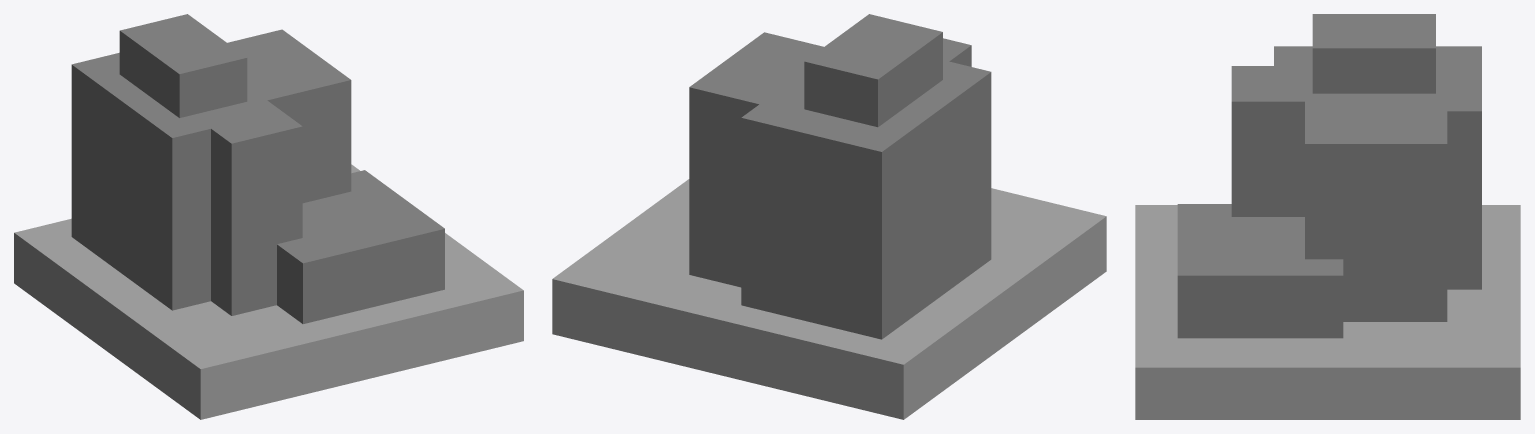
The model's file is Mountain.obj.
The picture shows the model from 3 angles, left to right: view 1: azimuth 30°, elevation 25°; view 2: azimuth 150°, elevation 25°; view 3: azimuth 270°, elevation 25°; orthographic projection. The views are drawn at different scales.
Bounding box in the file's own units: 10 × 7.9 × 10.
1 material, 1 textured.
